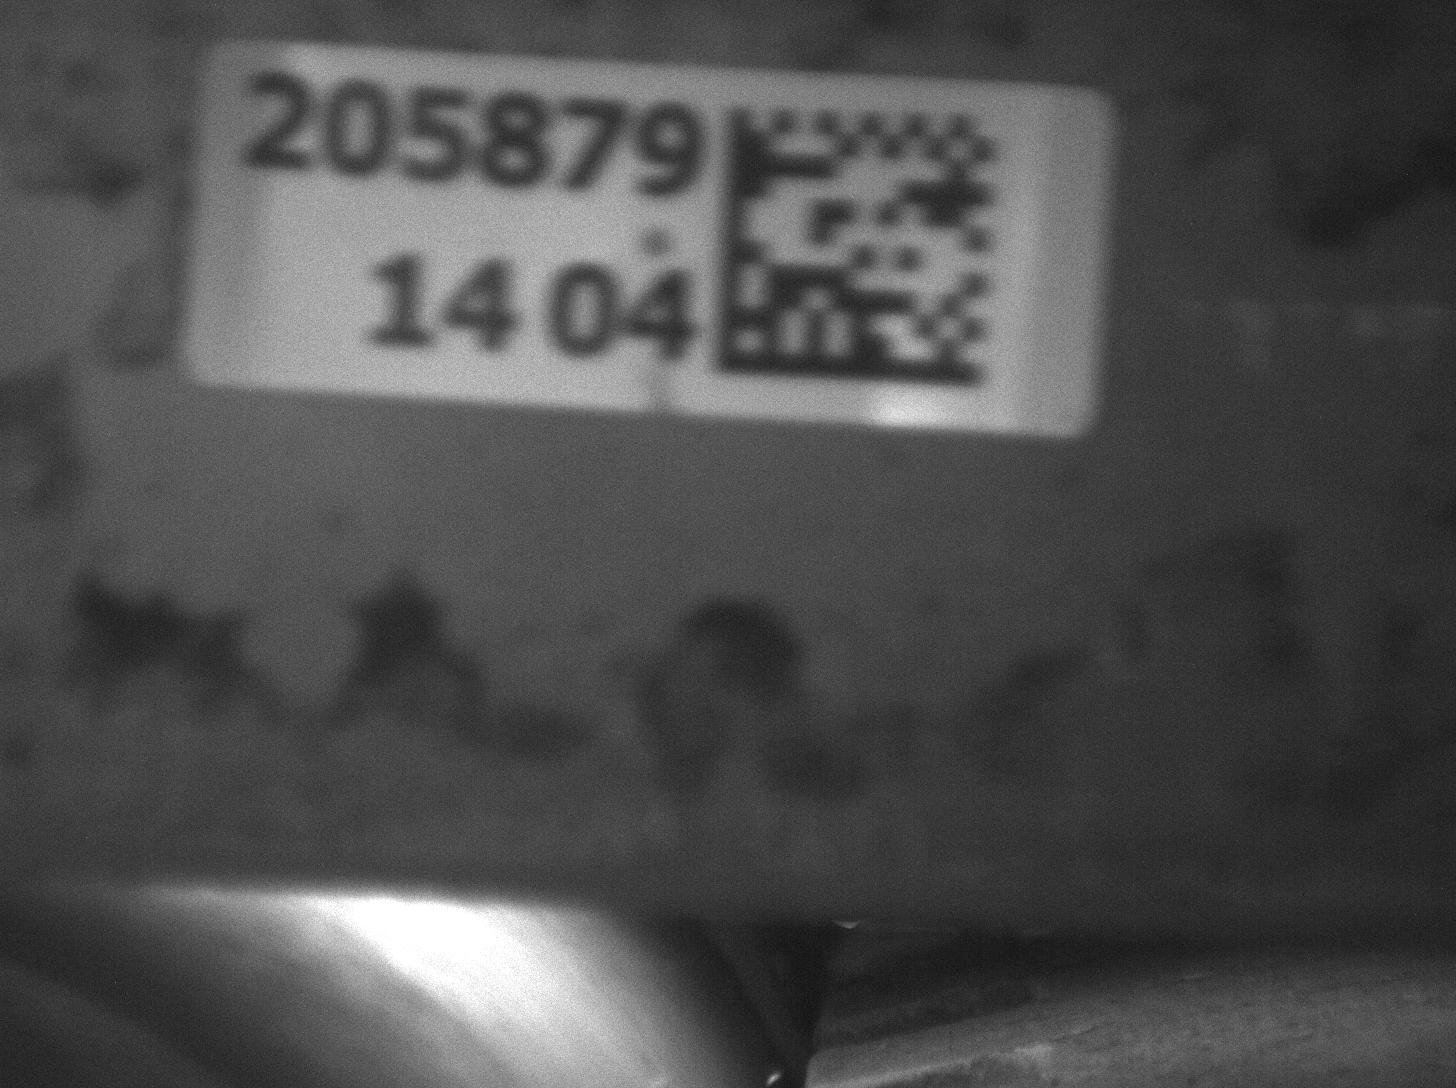data matrix: (702, 90, 1025, 398)
